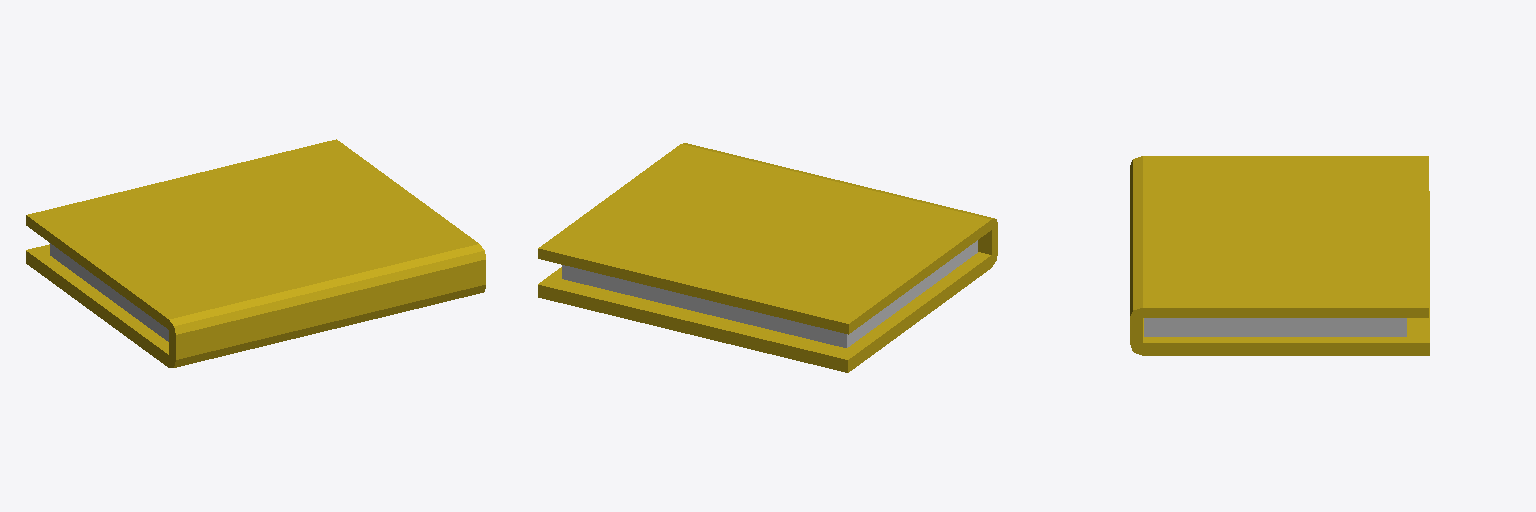
The model's file is book.obj.
3 views of the same model, side by side, from view 1: azimuth 30°, elevation 25°; view 2: azimuth 150°, elevation 25°; view 3: azimuth 270°, elevation 25° (orthographic).
Visible parts, largest first — view 1: Book; view 2: Book; view 3: Book.
Boxes of the visible parts, x1=… form: Book: x1=26, y1=139, x2=485, y2=367; Book: x1=538, y1=143, x2=997, y2=372; Book: x1=1130, y1=156, x2=1429, y2=355.
Bounding box in the file's own units: 1 × 0.1494 × 0.8382.